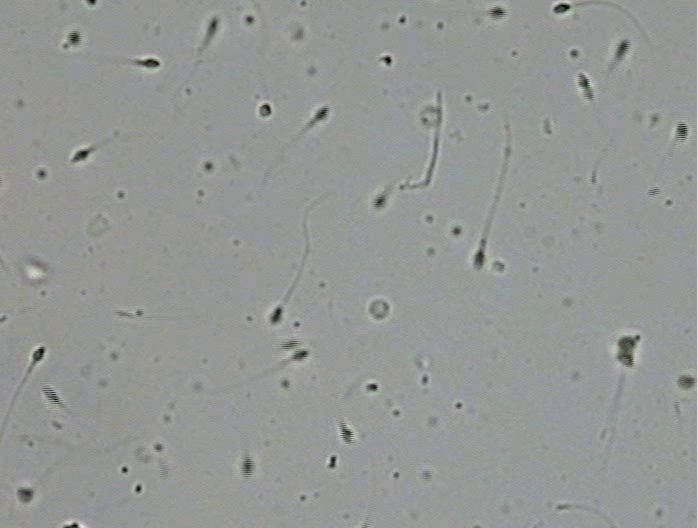Impurity: (368, 299, 388, 319)
S: (617, 336, 635, 367), (42, 387, 60, 405), (339, 423, 354, 444), (241, 457, 254, 479), (473, 249, 485, 270), (676, 121, 688, 142), (312, 106, 328, 121), (577, 73, 591, 90), (678, 375, 695, 389), (616, 40, 629, 58), (489, 6, 507, 18), (66, 31, 81, 45), (17, 489, 33, 502), (72, 150, 89, 162), (270, 307, 282, 324), (553, 3, 571, 14), (32, 346, 45, 361), (259, 103, 272, 117), (279, 340, 297, 350), (207, 19, 218, 35), (141, 59, 160, 68), (292, 350, 308, 360), (373, 196, 386, 208), (87, 1, 96, 6)
